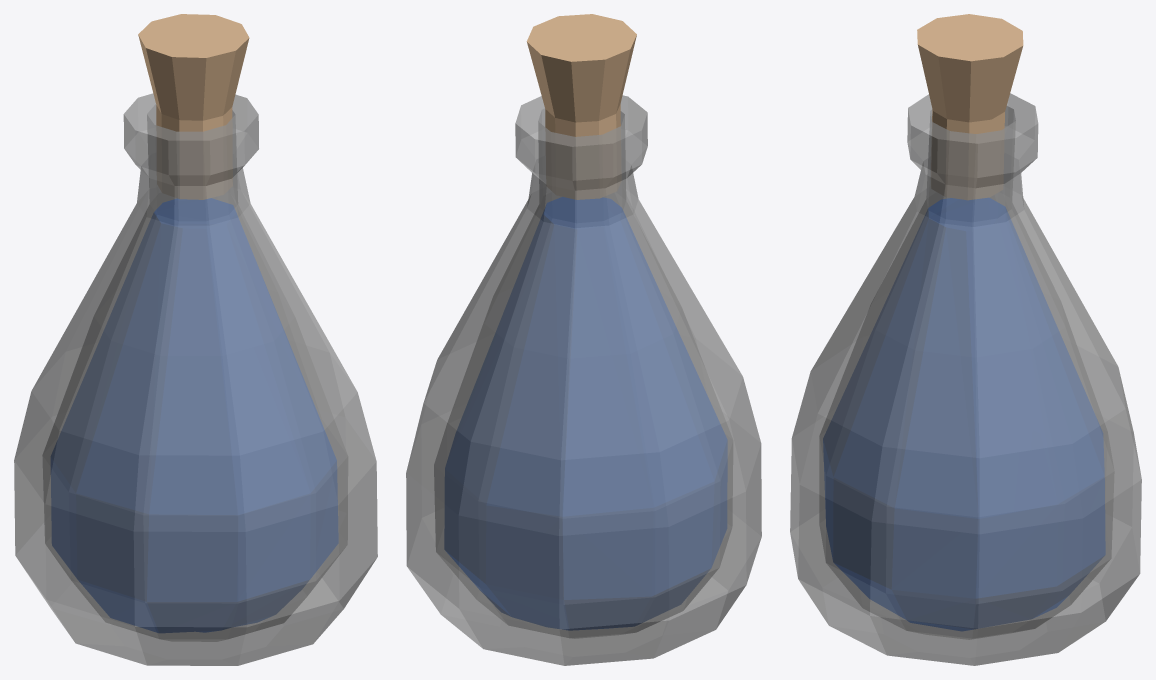
File: POTION 2.fbx
3 renders of one model, left to right at view 1: azimuth 30°, elevation 25°; view 2: azimuth 150°, elevation 25°; view 3: azimuth 270°, elevation 25°, orthographic.
Visible parts, largest first — view 1: POTION 3; view 2: POTION 3; view 3: POTION 3.
Part boxes in pixels (x1=…): POTION 3: x1=14, y1=14, x2=377, y2=665; POTION 3: x1=406, y1=14, x2=761, y2=665; POTION 3: x1=790, y1=14, x2=1141, y2=665.
Size of the model in its own units: 13.86 by 24.9 by 13.54.
